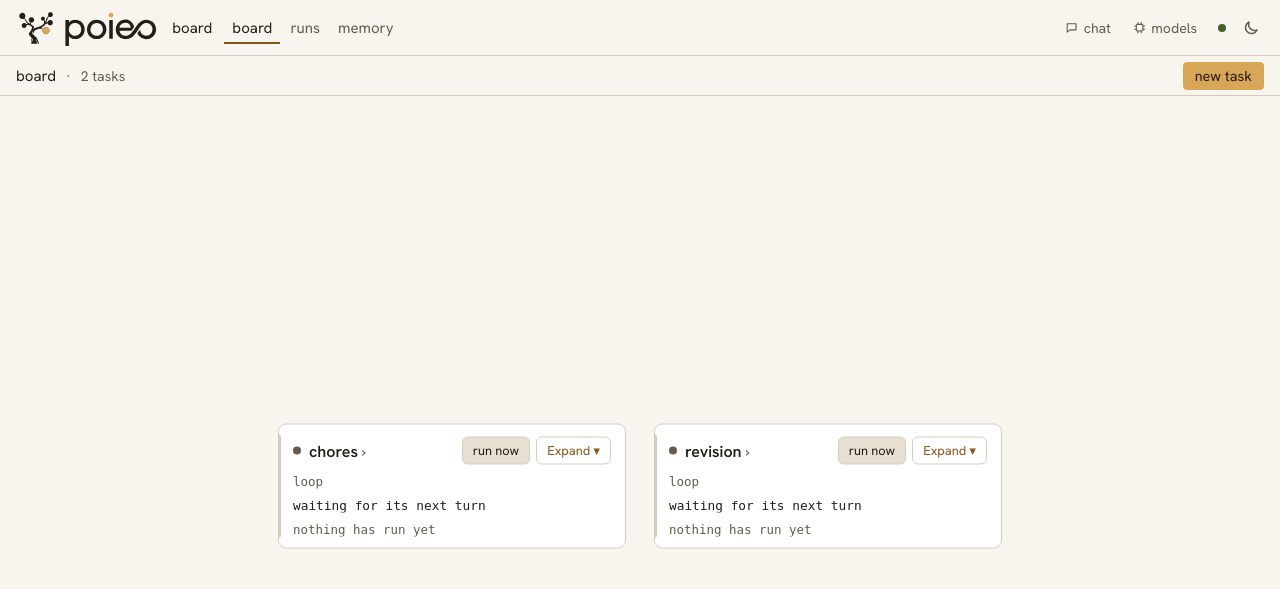
Test: memory is a project place among the tabs, not a rendering of the task board
Click the button "memory": click(366, 28) left=330, top=12, right=402, bottom=44
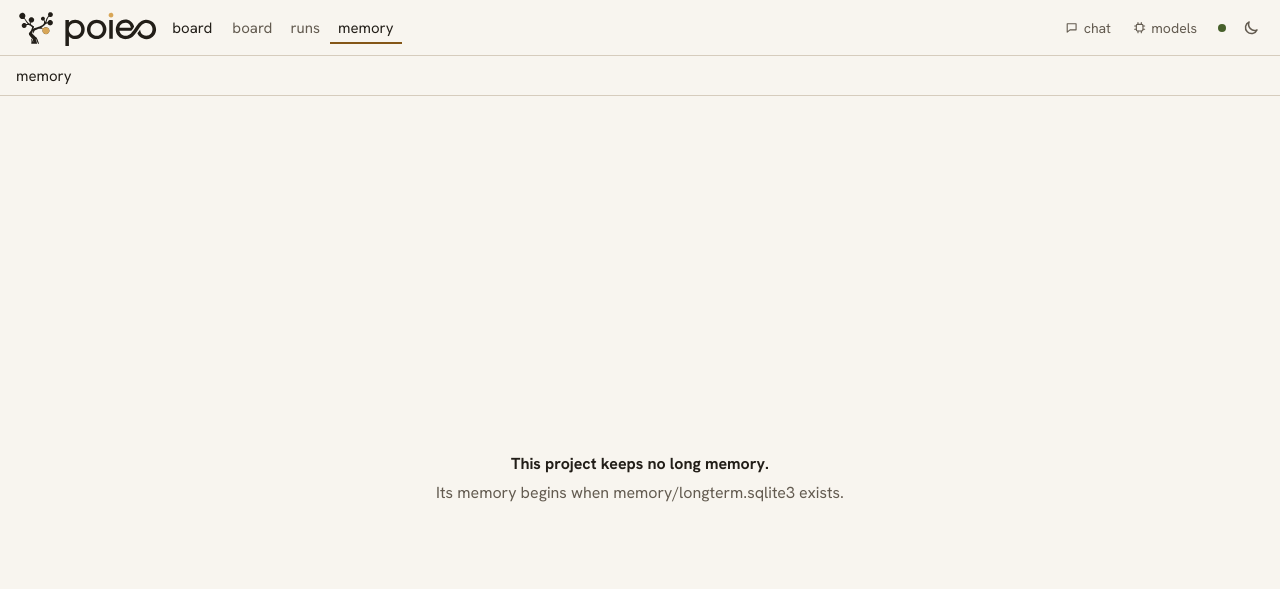
Check: the text "This project keeps no long memory" is shown, box left=511, top=453, right=769, bottom=474
Click the button "board": click(252, 28) left=224, top=12, right=280, bottom=44
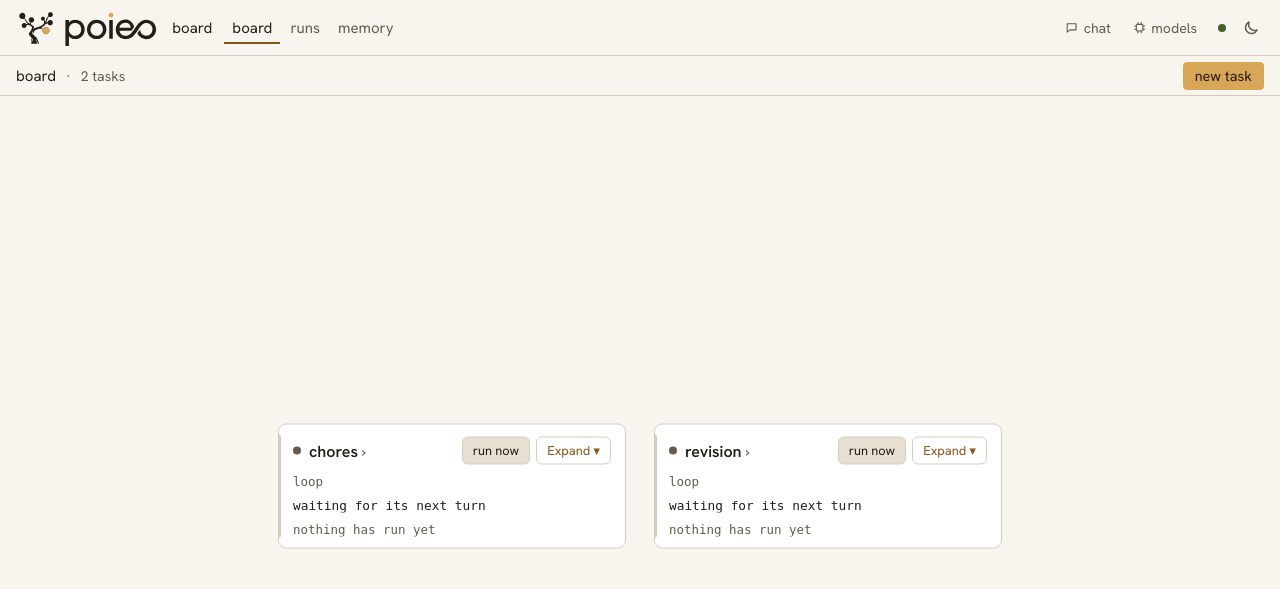
Check: the element with class "basic" is shown, box left=278, top=424, right=1002, bottom=572
